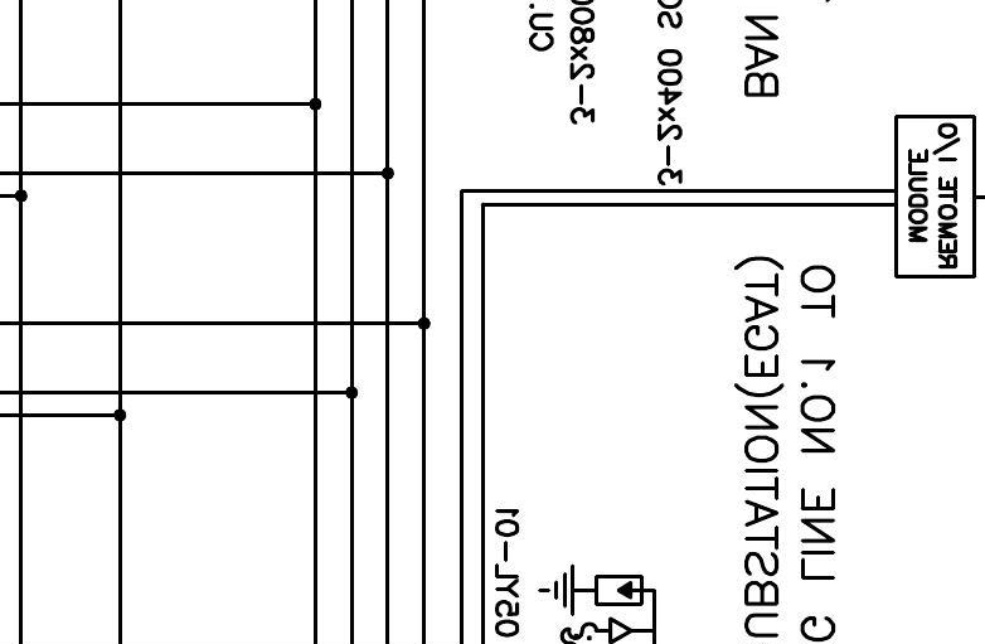115_la: (537, 563, 644, 617)
remote_io_module: (894, 115, 976, 280)
